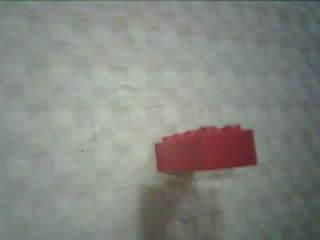lego: (153, 123, 257, 174)
